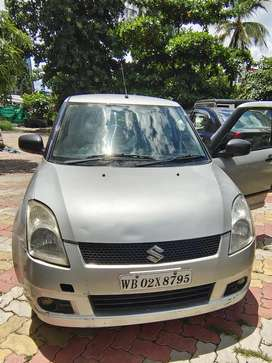WB02X8795: (119, 268, 191, 292)
